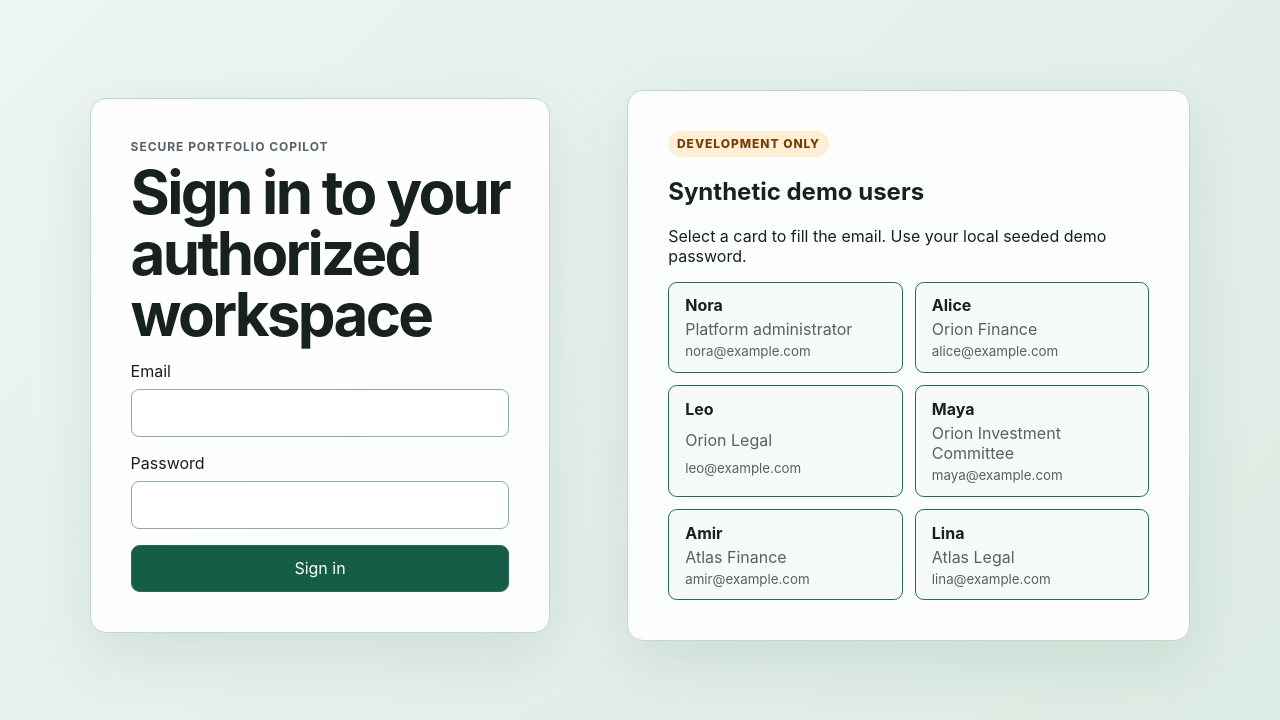
Scenario: LoginPage › shows the backend generic login error safely
Step 1. Type "unknown@example.com" into the field labelled "Email" → (320, 413), box [131,389,509,437]
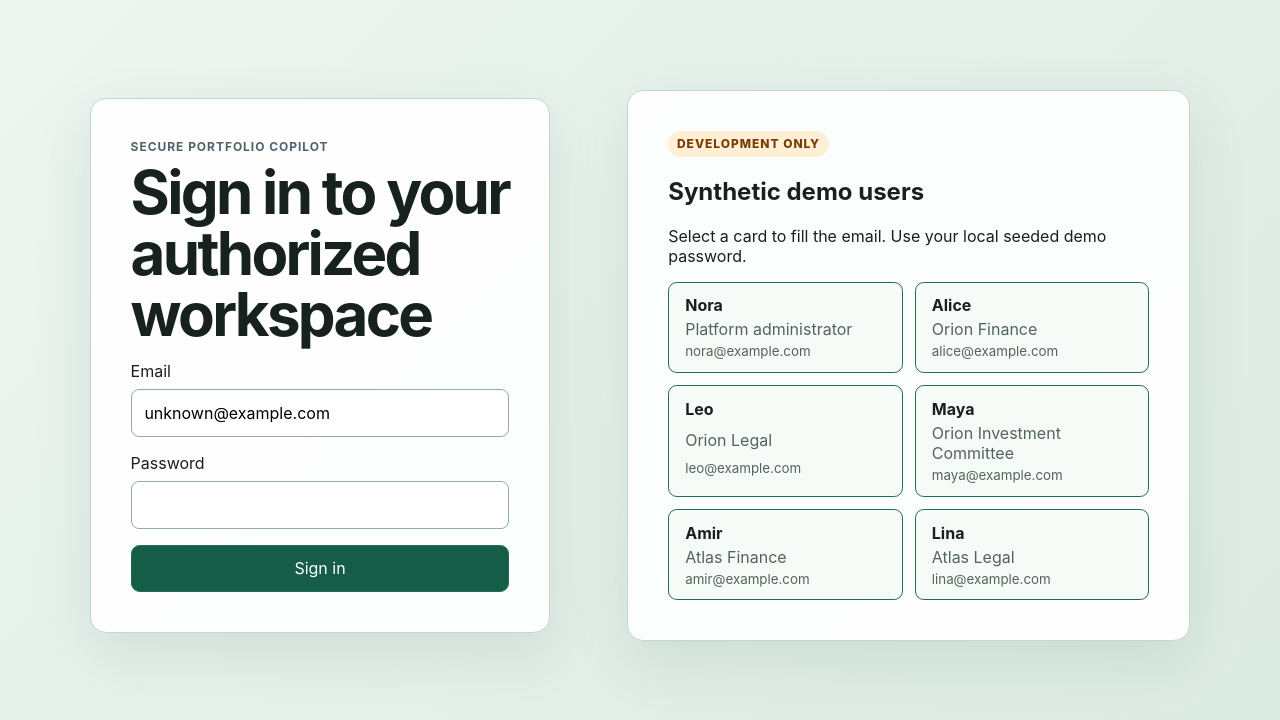
Step 2. Type "wrong-password" into the password field labelled "Password" → (320, 505), box [131,481,509,529]
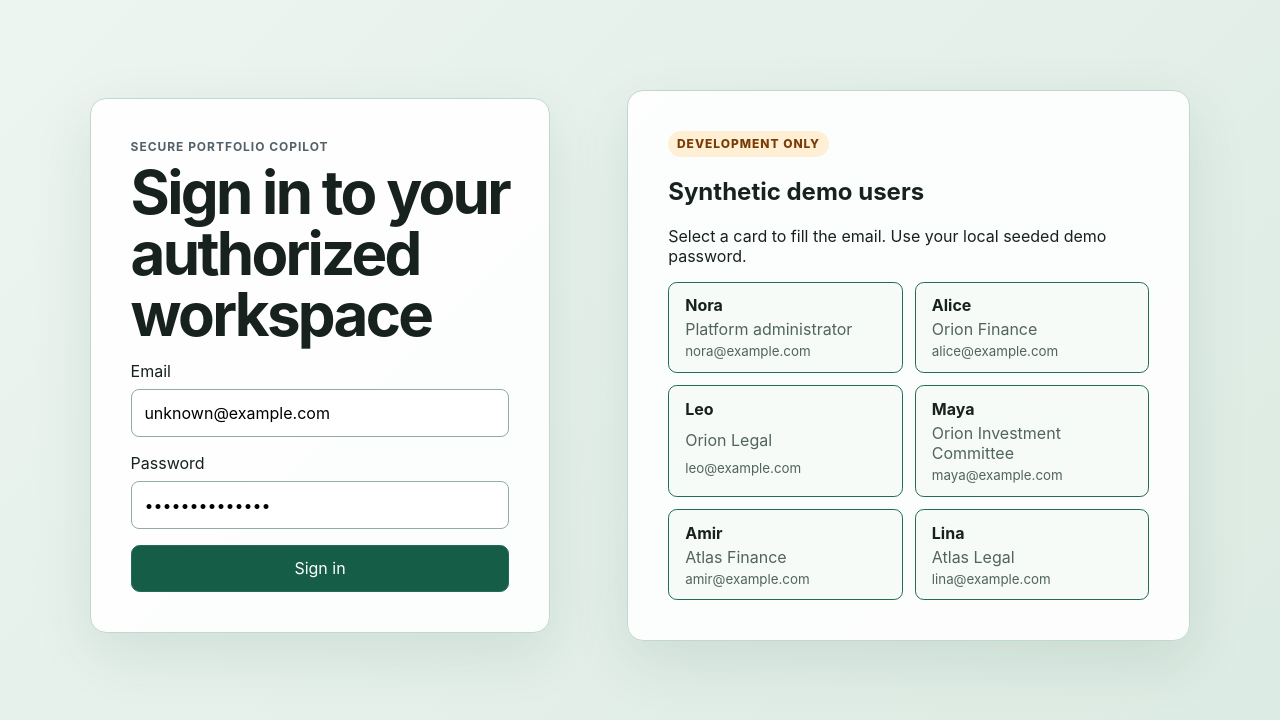
Step 3. Click the button "Sign in" → (320, 568), box [131,545,509,592]
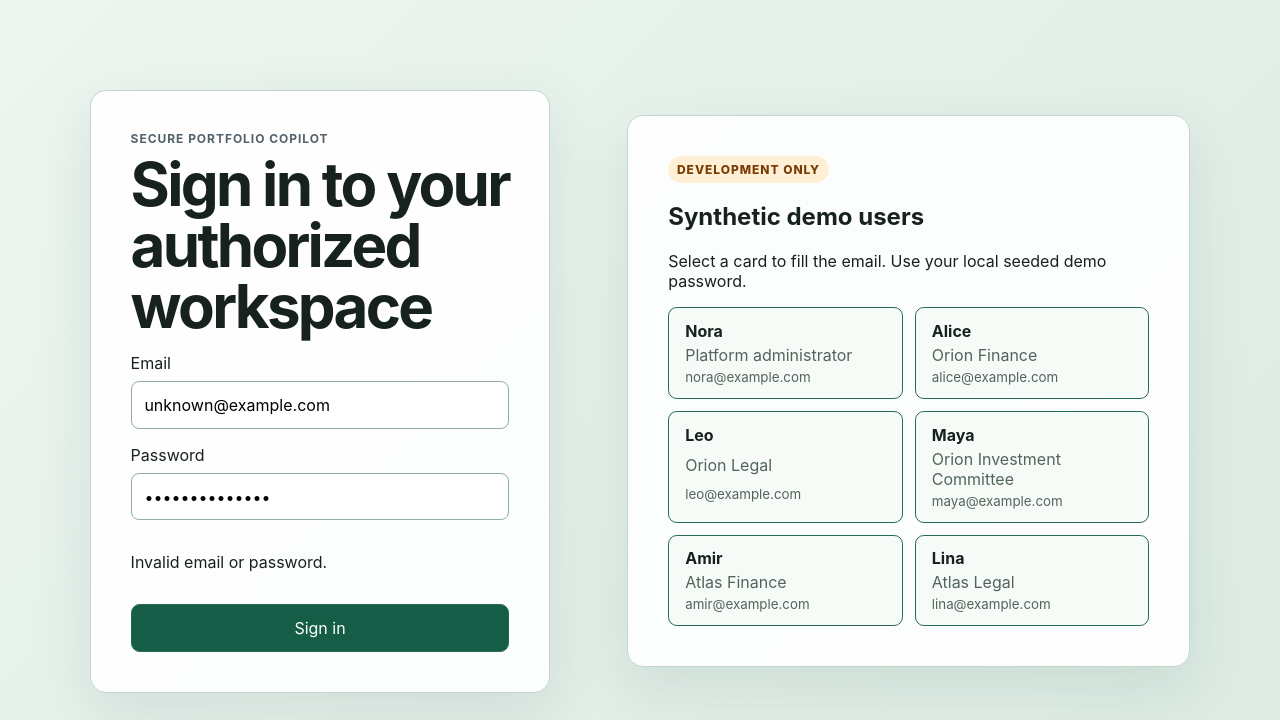
Expected: the message reads "Invalid email or password.", [131,552,327,572]
